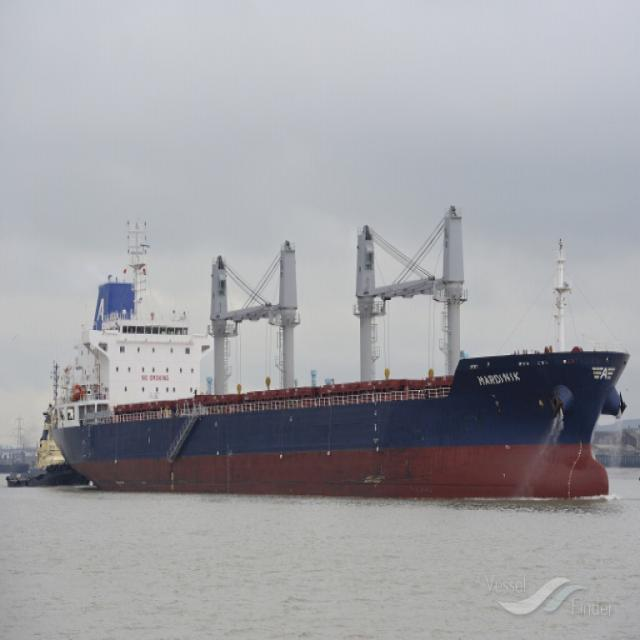OCR: (468, 370, 520, 390)
